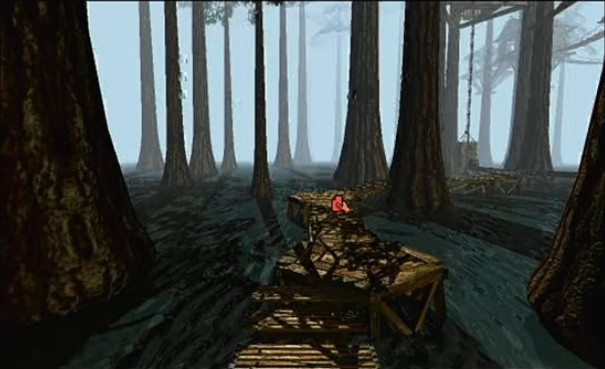Keep: (328, 193, 352, 214)
